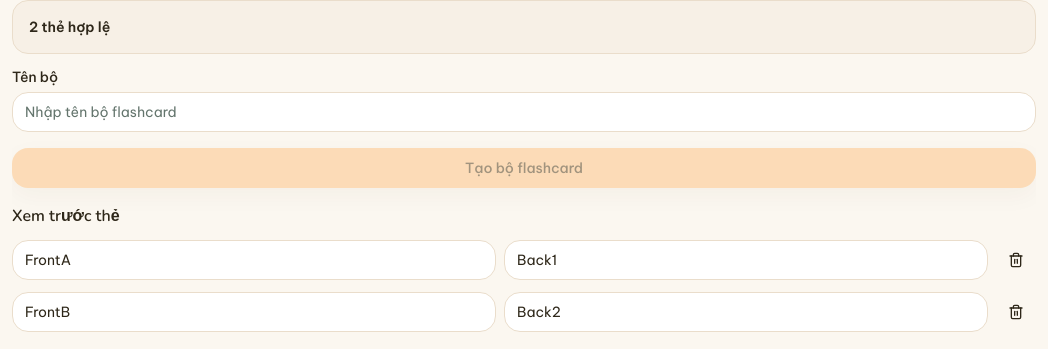
Test case: CreateSummary › updates validation when a card is deleted
This screenshot has width=1048, height=349.
Check: the text "2 thẻ hợp lệ" is shown, box x1=29 y1=18 x2=110 y2=36
Click the button named "Xóa thẻ" at (1016, 260), box x1=996 y1=240 x2=1036 y2=280
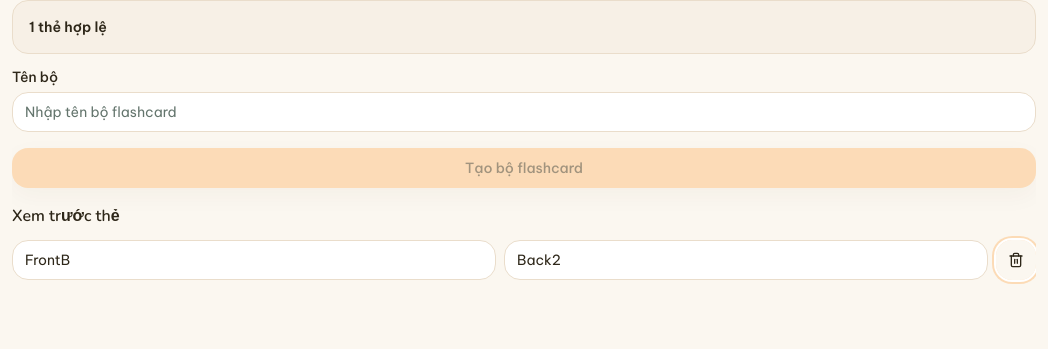
Check: the field showing "FrontA" is not shown
Check: the text "1 thẻ hợp lệ" is shown, box x1=29 y1=18 x2=107 y2=36
